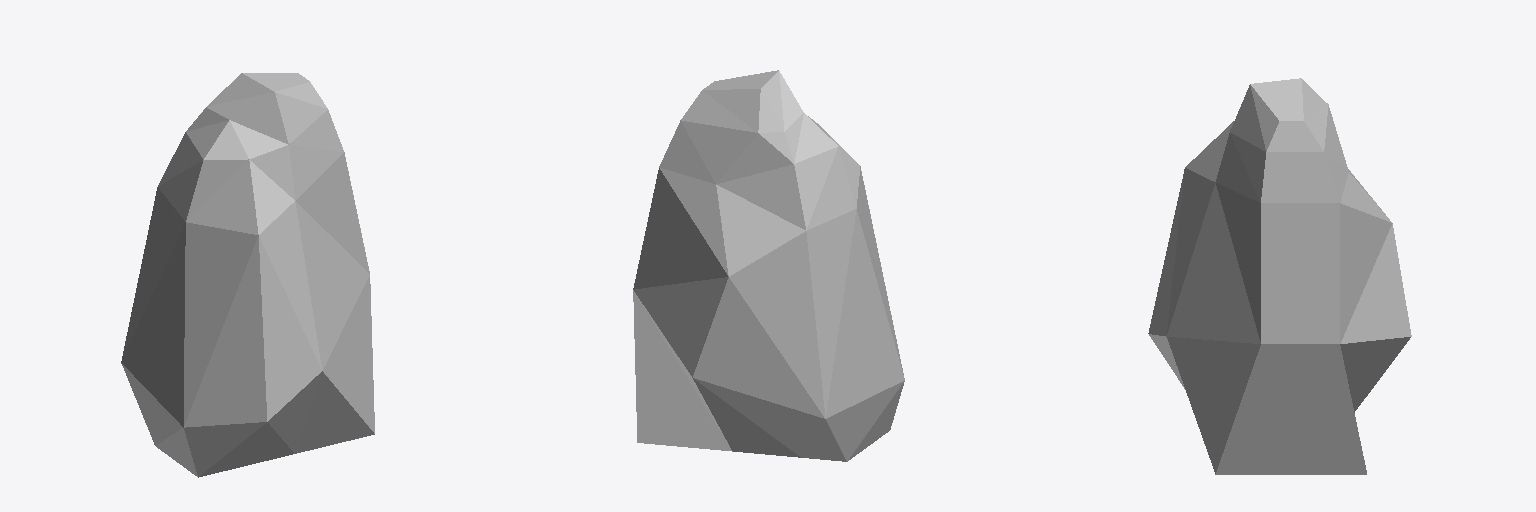
File: cailloux1.obj
3 renders of one model, left to right at view 1: azimuth 30°, elevation 25°; view 2: azimuth 150°, elevation 25°; view 3: azimuth 270°, elevation 25°, orthographic.
Visible parts, largest first — view 1: lilC:Rock; view 2: lilC:Rock; view 3: lilC:Rock.
Boxes of the visible parts, box(x1,y1,x2,y2) form: lilC:Rock: box(121, 73, 374, 477); lilC:Rock: box(633, 70, 904, 461); lilC:Rock: box(1148, 78, 1411, 474).
Size of the model in its own units: 2.81 by 4.51 by 3.06.